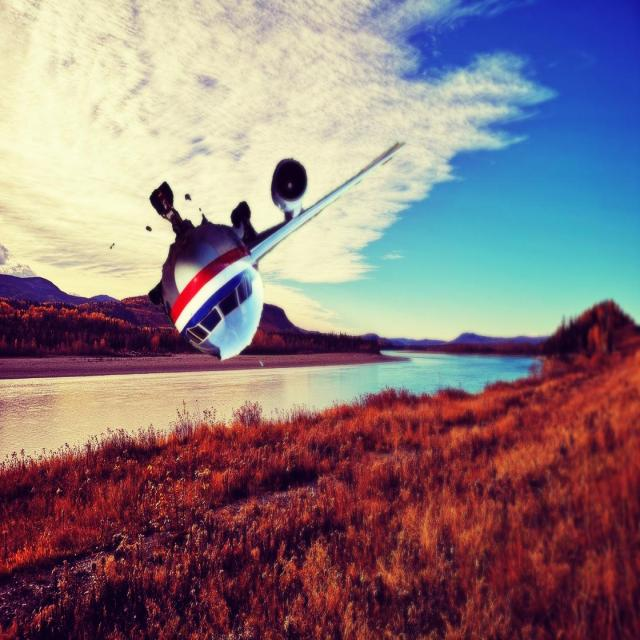airplane: (146, 139, 406, 362)
